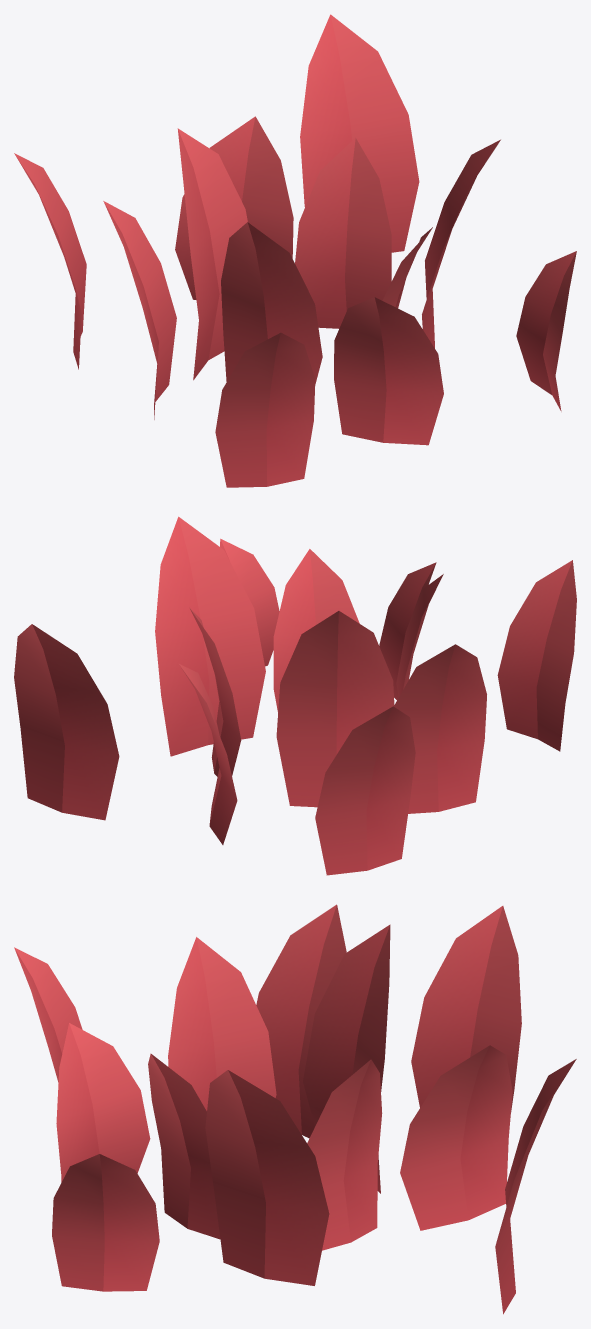
Rendered from Grass_1_D_Singlesided_Color7.fbx.
3 renders of one model, top to bottom at view 1: azimuth 30°, elevation 25°; view 2: azimuth 150°, elevation 25°; view 3: azimuth 270°, elevation 25°, orthographic. The views are drawn at different scales.
Visible parts, largest first — view 1: Grass_1_D_Singlesided_Color7; view 2: Grass_1_D_Singlesided_Color7; view 3: Grass_1_D_Singlesided_Color7.
Part boxes in pixels (left/top/right/bottom): Grass_1_D_Singlesided_Color7: left=14, top=14, right=576, bottom=487; Grass_1_D_Singlesided_Color7: left=14, top=516, right=576, bottom=875; Grass_1_D_Singlesided_Color7: left=14, top=904, right=576, bottom=1314.
Bounding box in the file's own units: 1.04 × 0.5837 × 1.19.
